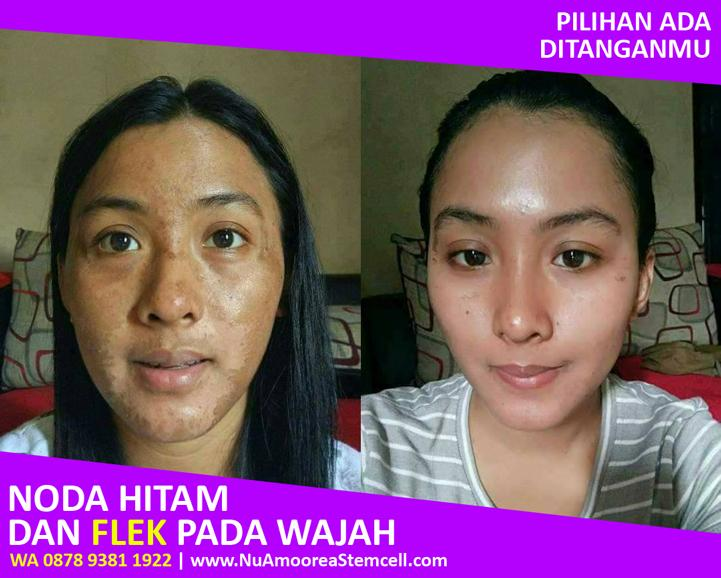Dark-Spots: (148, 191, 283, 441), (64, 236, 145, 437)
